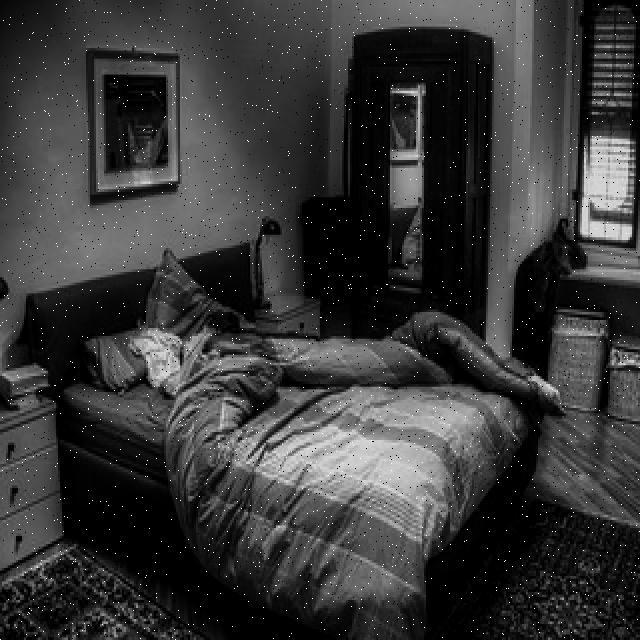bed: (58, 245, 564, 640)
